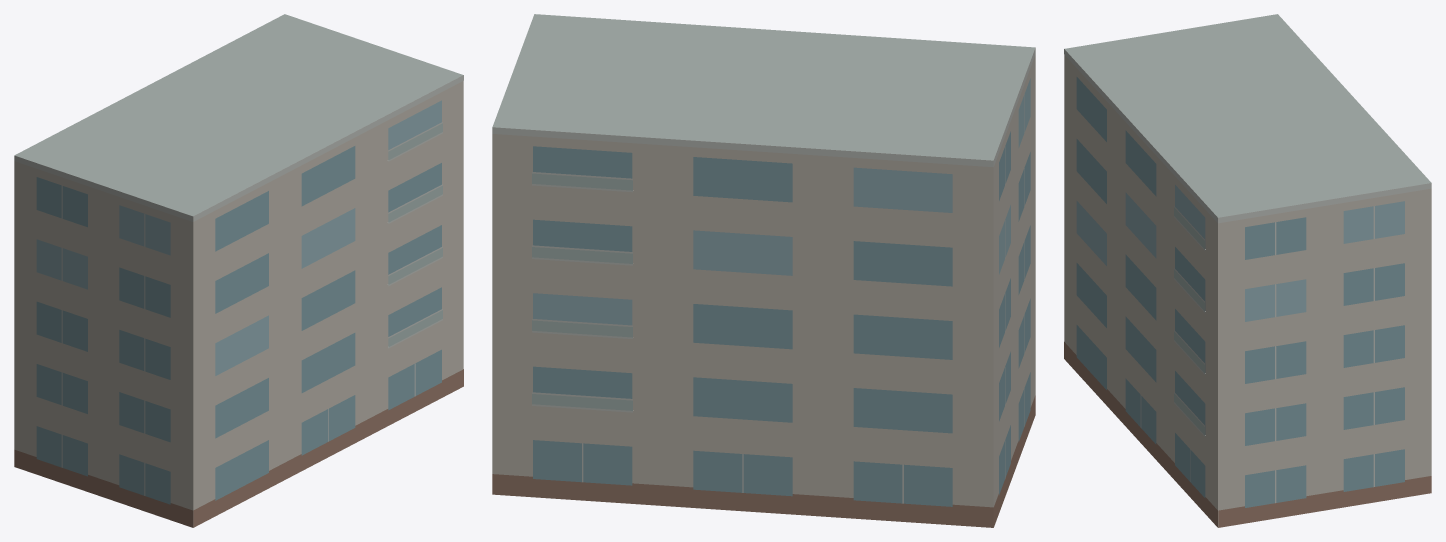
The model's file is survey-upis-32853140.glb.
3 renders of one model, left to right at view 1: azimuth 30°, elevation 25°; view 2: azimuth 150°, elevation 25°; view 3: azimuth 270°, elevation 25°, orthographic. The views are drawn at different scales.
Visible parts, largest first — view 1: survey-upis-32853140.tmp; view 2: survey-upis-32853140.tmp; view 3: survey-upis-32853140.tmp.
Boxes of the visible parts, x1,y1,x2,y2 form: survey-upis-32853140.tmp: (14, 14, 463, 527); survey-upis-32853140.tmp: (492, 14, 1035, 527); survey-upis-32853140.tmp: (1064, 14, 1431, 527).
Bounding box in the file's own units: 19.18 × 13.6 × 14.62.
